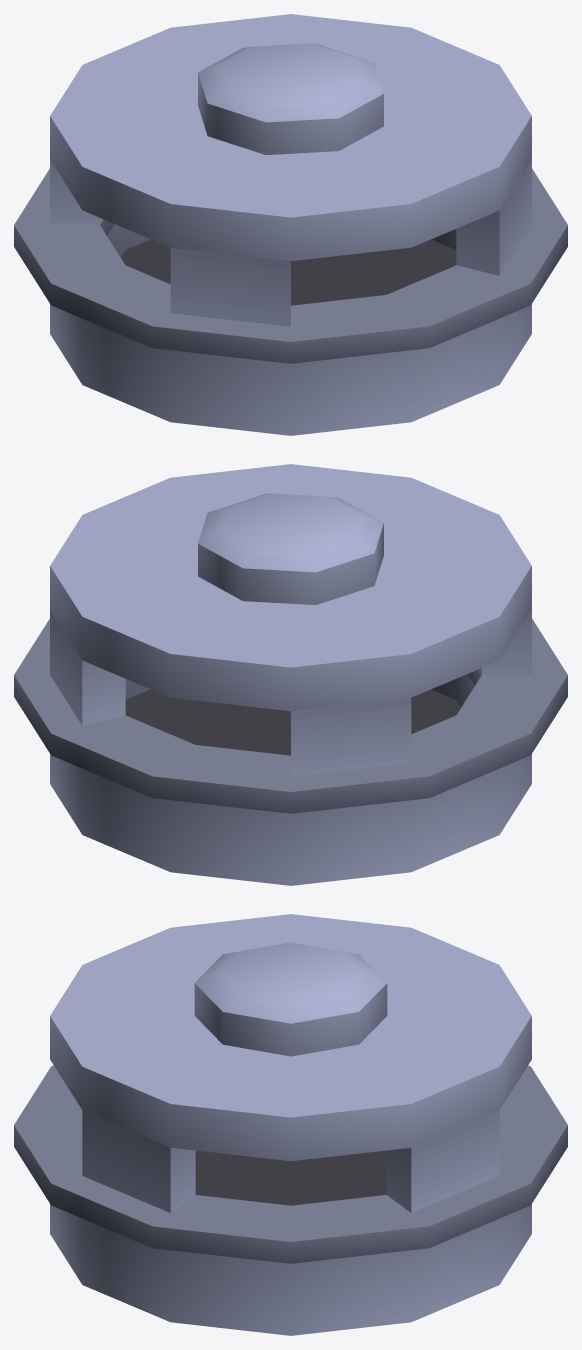
File: tower-round-middle-c.fbx
3 renders of one model, top to bottom at view 1: azimuth 30°, elevation 25°; view 2: azimuth 150°, elevation 25°; view 3: azimuth 270°, elevation 25°, orthographic.
Parts seen in each view (by area): view 1: tower-round-middle-c; view 2: tower-round-middle-c; view 3: tower-round-middle-c.
Boxes of the visible parts, <box> form: tower-round-middle-c: <box>14,14,567,435</box>; tower-round-middle-c: <box>14,464,567,885</box>; tower-round-middle-c: <box>14,914,567,1335</box>.
Size of the model in its own units: 115 by 60 by 115.
